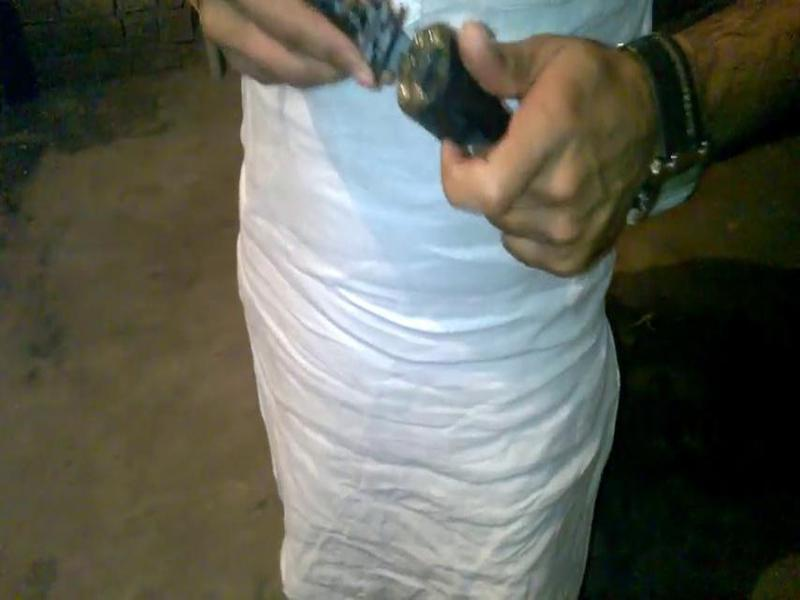Revolver: (269, 1, 557, 208)
